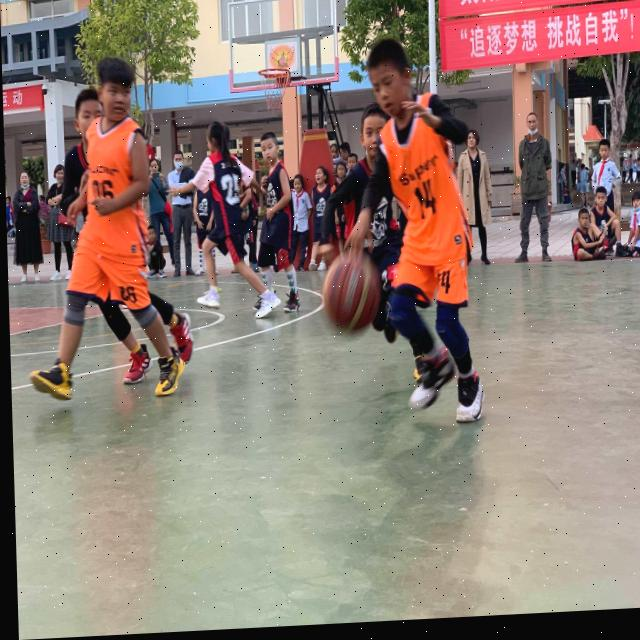basketball: (317, 253, 382, 336)
hoop: (258, 66, 291, 115)
